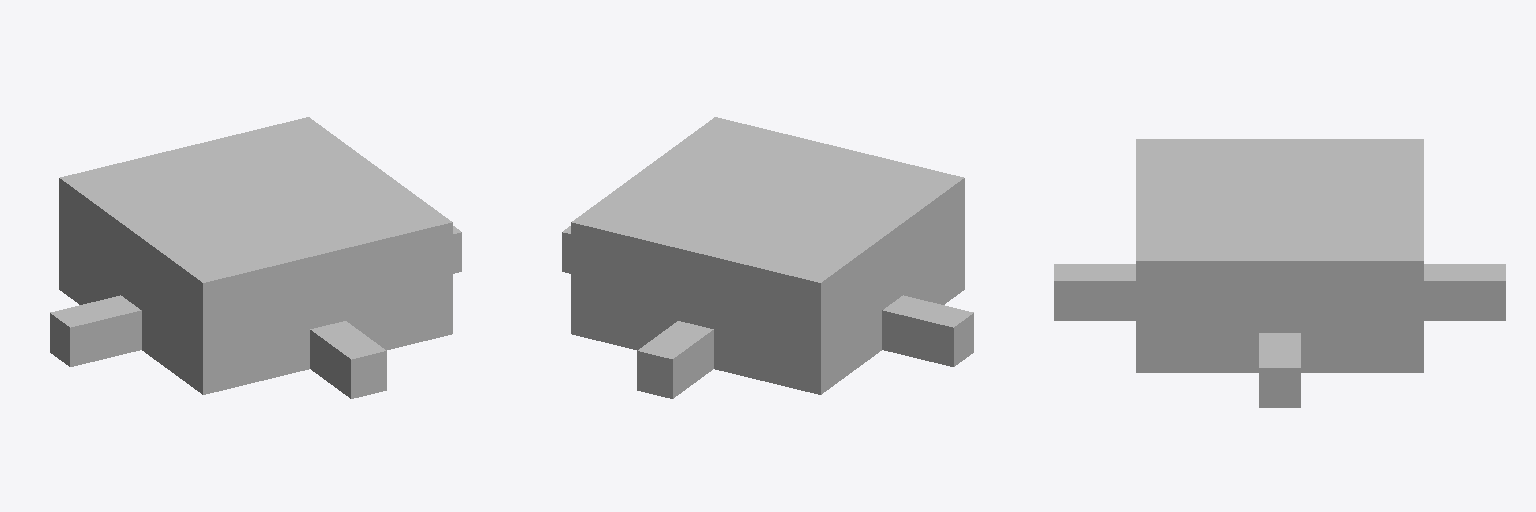
The picture shows the model from 3 angles: view 1: azimuth 30°, elevation 25°; view 2: azimuth 150°, elevation 25°; view 3: azimuth 270°, elevation 25°; orthographic projection.
Visible parts, largest first — view 1: Plane; view 2: Plane; view 3: Plane.
Part boxes in pixels (bbox=[...]): Plane: bbox=[50, 117, 461, 398]; Plane: bbox=[562, 117, 973, 398]; Plane: bbox=[1054, 139, 1505, 407].
Size of the model in its own units: 0.11 by 0.0301 by 0.11.